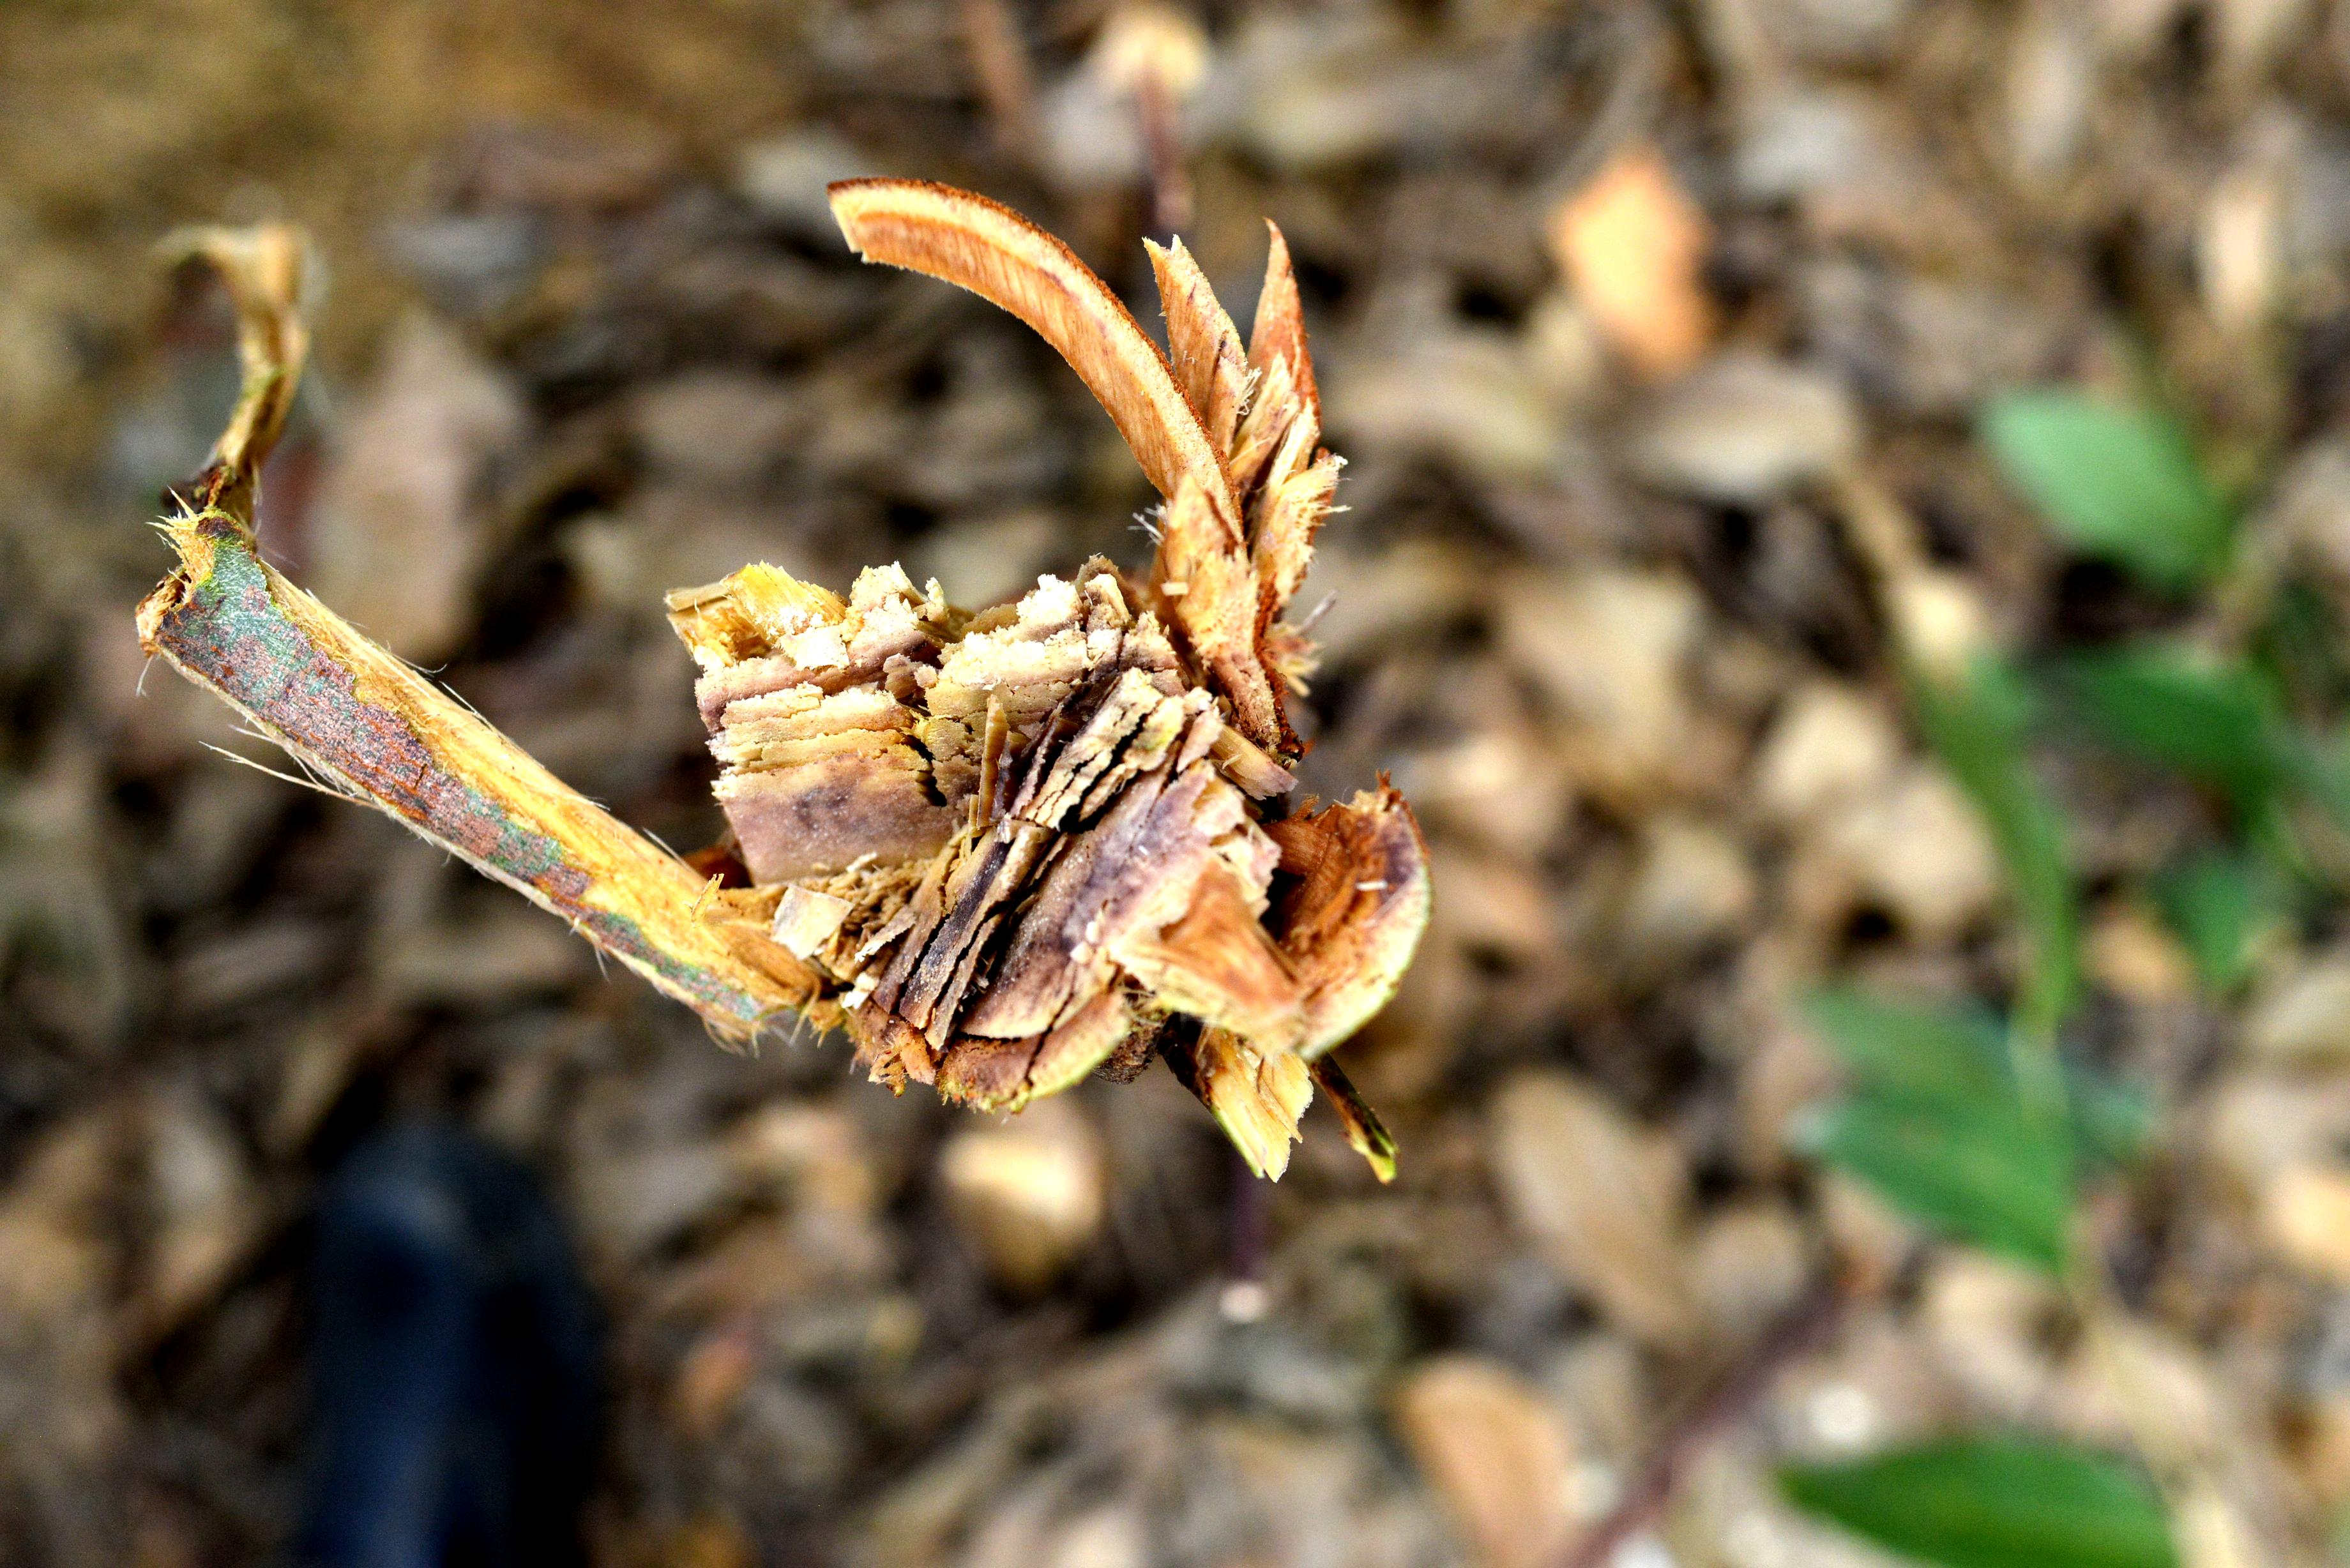Ralstonia: (999, 843, 1095, 997), (754, 777, 866, 871), (885, 947, 947, 1038), (759, 590, 815, 651)
